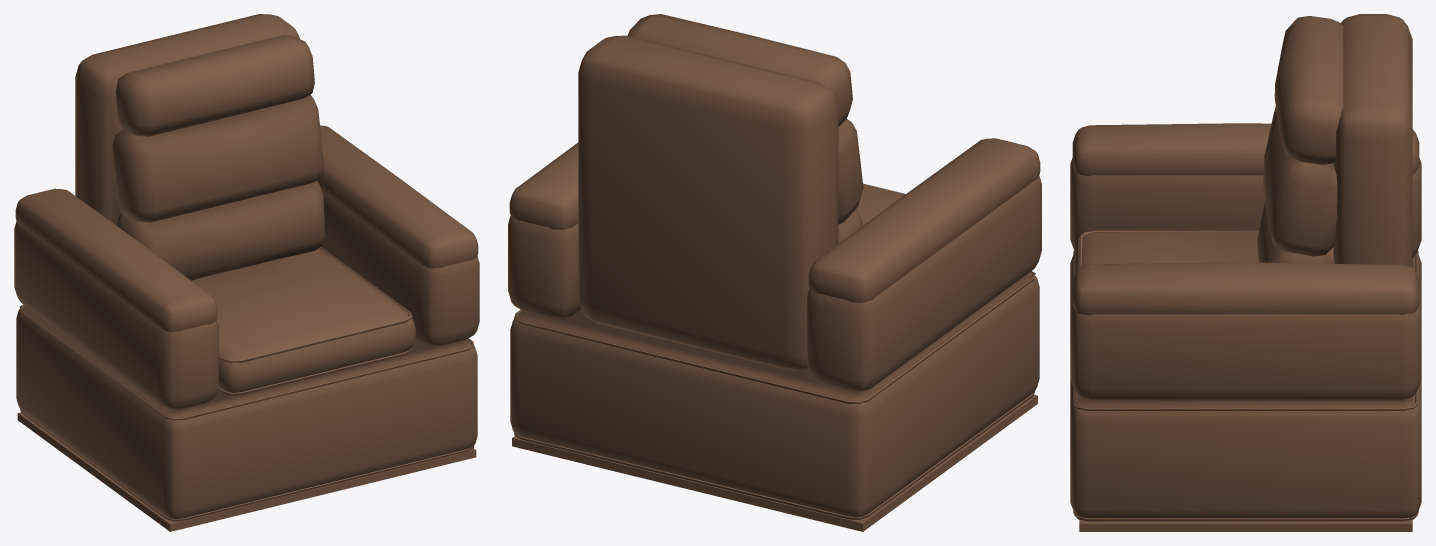
File: recliner.glb
3 views of the same model, side by side, from view 1: azimuth 30°, elevation 25°; view 2: azimuth 150°, elevation 25°; view 3: azimuth 270°, elevation 25° (orthographic). The views are drawn at different scales.
Visible parts, largest first — view 1: chair, seat; view 2: chair, seat; view 3: chair, seat.
Part boxes in pixels (x1,y1,x2,y2): chair: (14, 125, 479, 531); seat: (75, 14, 415, 395); chair: (508, 138, 1041, 531); seat: (578, 14, 905, 369); chair: (1070, 123, 1421, 531); seat: (1074, 14, 1412, 275).
Size of the model in its own units: 0.92 by 0.9879 by 0.8.
